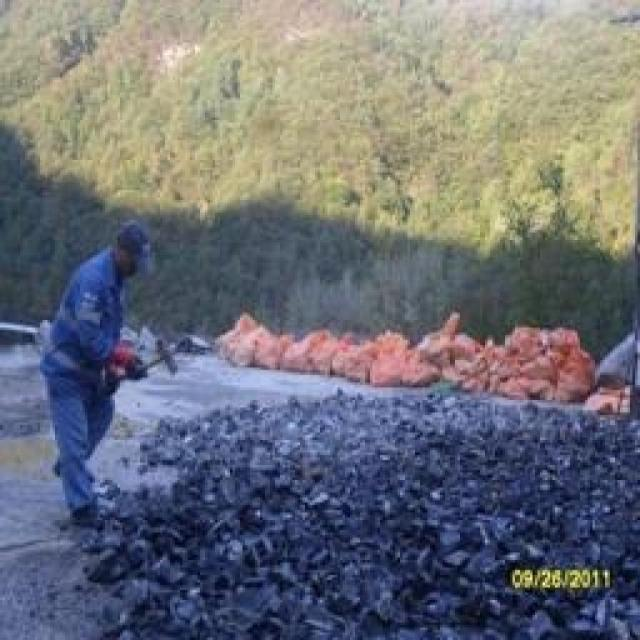Helmet: (31, 248, 135, 402), (96, 204, 184, 286)
